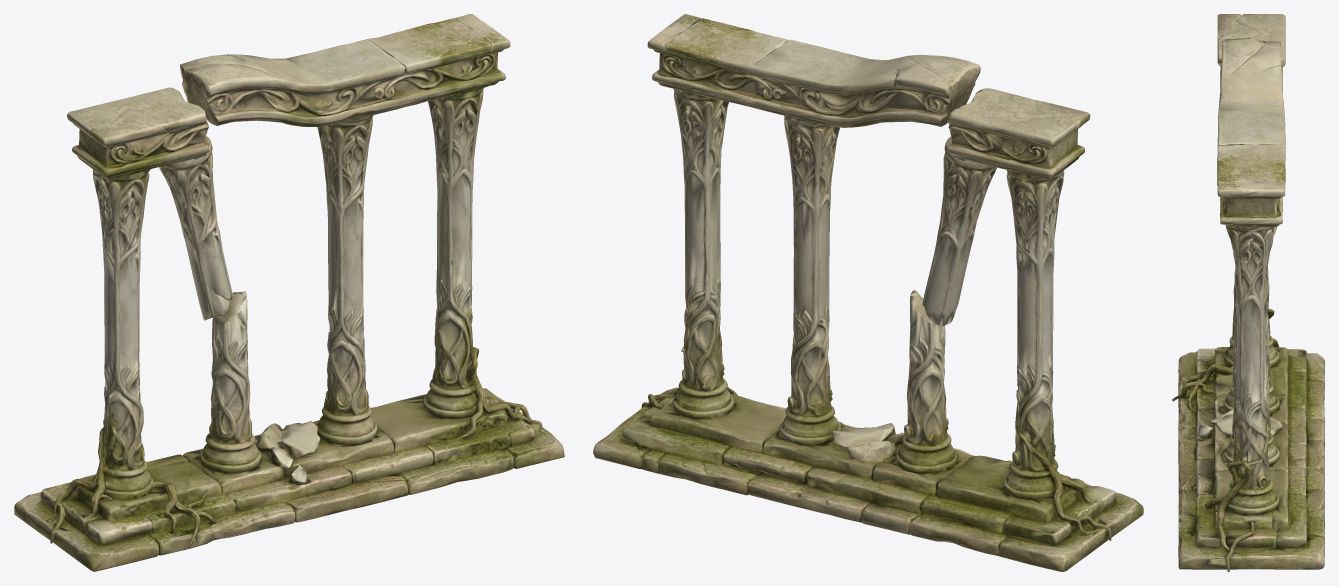
Rendered from court_colonnade.glb.
3 renders of one model, left to right at view 1: azimuth 30°, elevation 25°; view 2: azimuth 150°, elevation 25°; view 3: azimuth 270°, elevation 25°, orthographic. The views are drawn at different scales.
Visible parts, largest first — view 1: tripo_node_1b38a7d0-e598-4162-b321-ac4add963083; view 2: tripo_node_1b38a7d0-e598-4162-b321-ac4add963083; view 3: tripo_node_1b38a7d0-e598-4162-b321-ac4add963083.
Part boxes in pixels (x1=…): tripo_node_1b38a7d0-e598-4162-b321-ac4add963083: x1=14, y1=14, x2=564, y2=571; tripo_node_1b38a7d0-e598-4162-b321-ac4add963083: x1=593, y1=14, x2=1143, y2=571; tripo_node_1b38a7d0-e598-4162-b321-ac4add963083: x1=1172, y1=14, x2=1324, y2=571.
Size of the model in its own units: 0.9794 by 0.8495 by 0.3025.
1 material, 1 textured.
